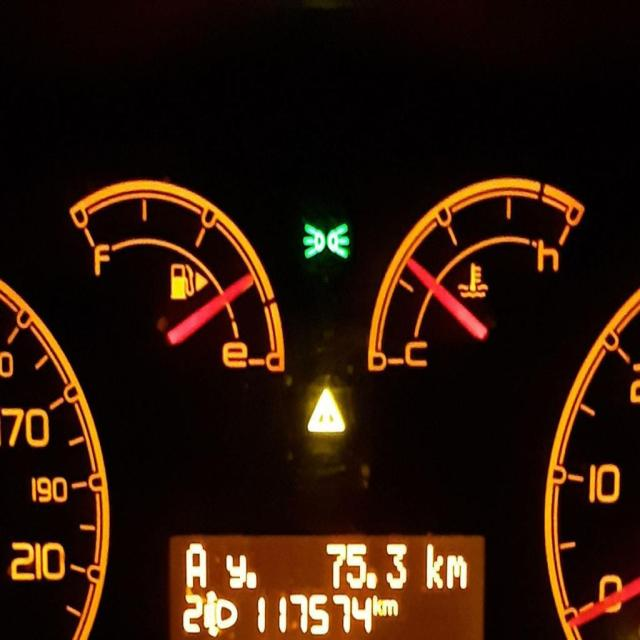odometer: (160, 523, 491, 638)
